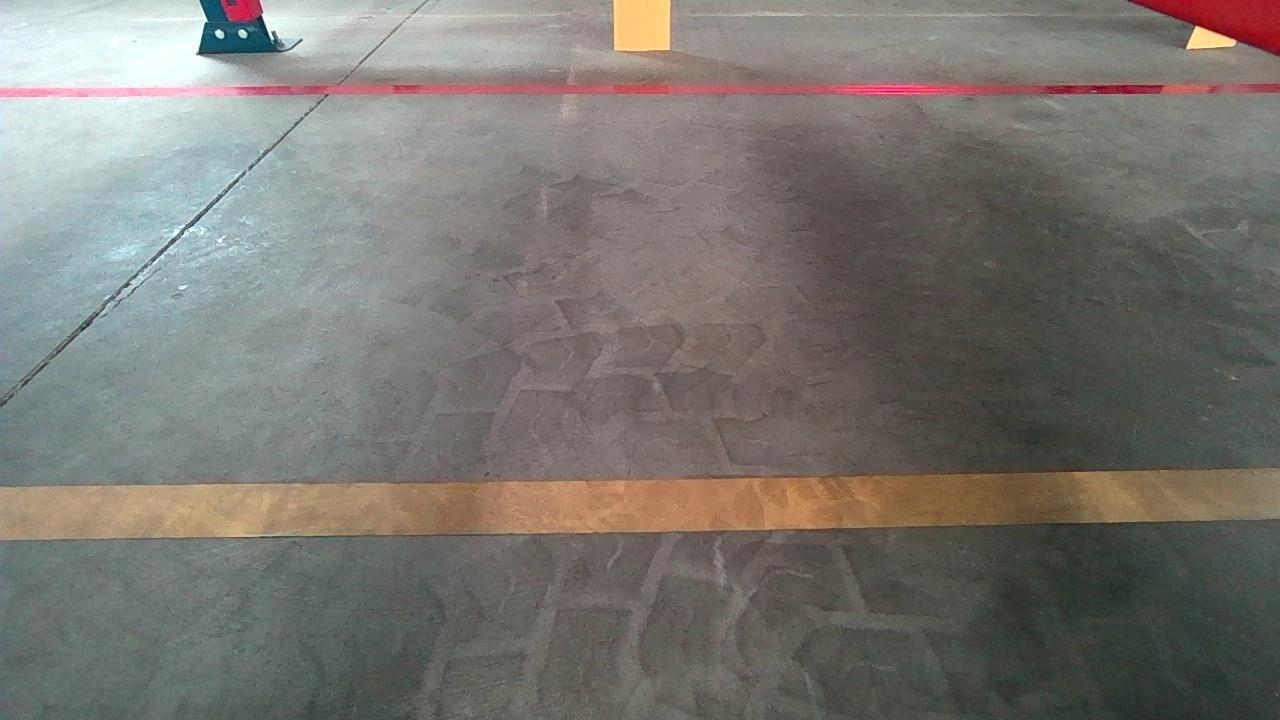h_rack: (1173, 11, 1264, 50)
orange_strip: (614, 0, 672, 50)
red_line: (5, 82, 1265, 103)
yellow_line: (0, 467, 1280, 540)
